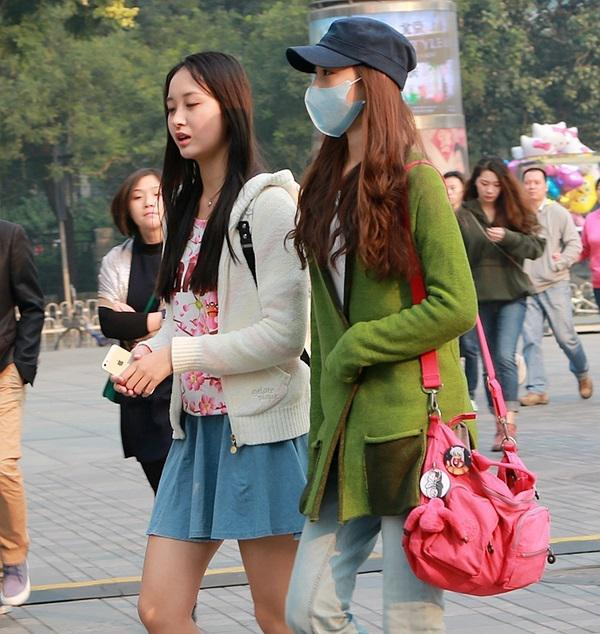NONE: (167, 94, 227, 161), (131, 188, 164, 231), (480, 180, 506, 205), (524, 175, 546, 200), (445, 182, 464, 206)
OK: (307, 60, 374, 131)
